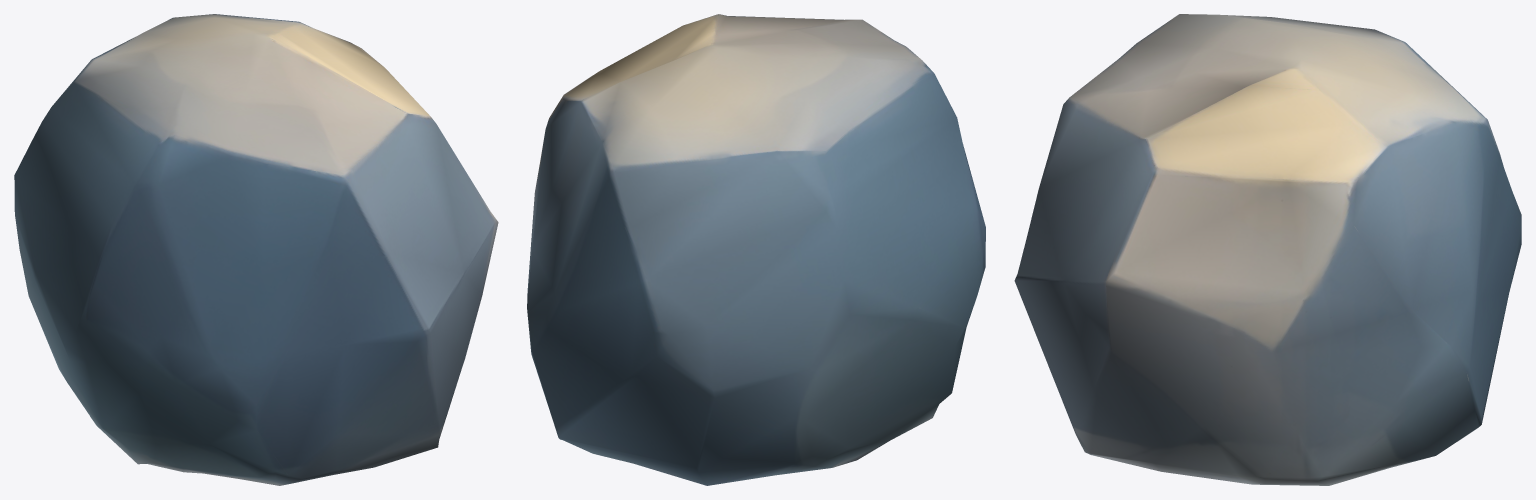
The picture shows the model from 3 angles, left to right: view 1: azimuth 30°, elevation 25°; view 2: azimuth 150°, elevation 25°; view 3: azimuth 270°, elevation 25°; orthographic projection. The views are drawn at different scales.
Visible parts, largest first — view 1: coast-rock-1; view 2: coast-rock-1; view 3: coast-rock-1.
Part boxes in pixels (x1,y1,x2,y2): coast-rock-1: (14,14,498,485); coast-rock-1: (527,14,985,485); coast-rock-1: (1014,14,1521,485).
Bounding box in the file's own units: 0.3006 × 0.2505 × 0.322.
Materials: 1 (1 with a texture image).
